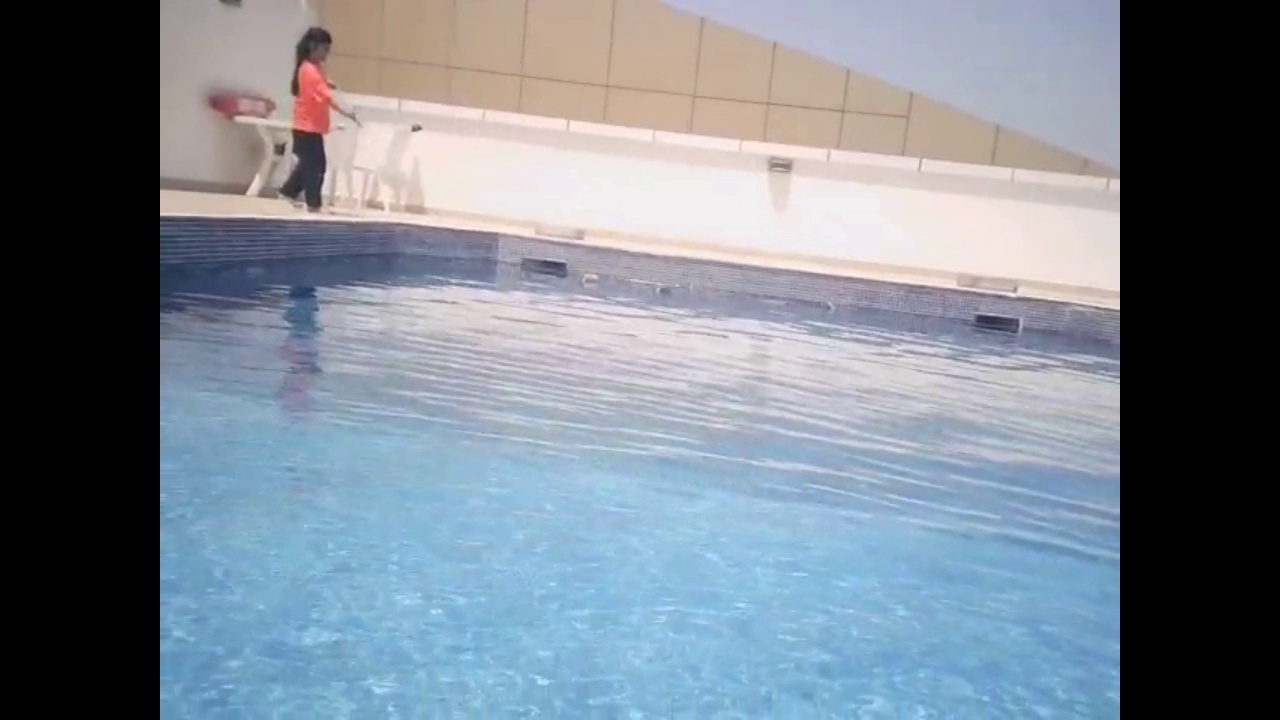debris: (579, 270, 601, 288), (652, 283, 673, 297), (822, 299, 835, 315)
